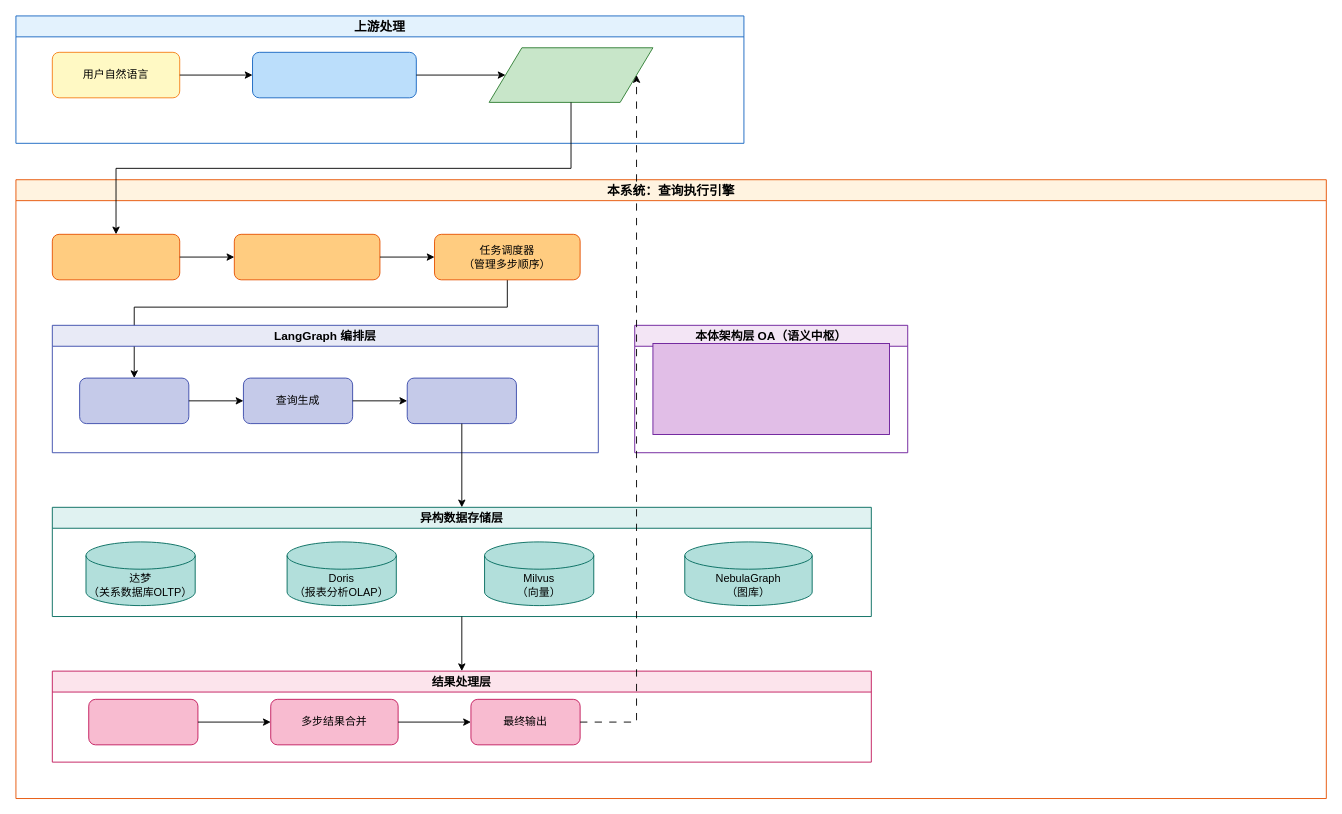
This 1342x814 diagram has some shape labels left out. Each missing label, with the centre of its shape:
上游意图解析Agent （已对齐本体）: pixel 334 74
对象：Loan, Book, Member 关系：occurs_at, made_by 指标：overdue_count 规则：逾期判定逻辑: pixel 771 389
意图传递接口 （结构化文本）: pixel 570 74
意图接收节点: pixel 115 256
意图解析节点 （文本→TaskPlan）: pixel 306 256
执行调度: pixel 461 400
结果验证: pixel 143 721
路由决策: pixel 134 400
